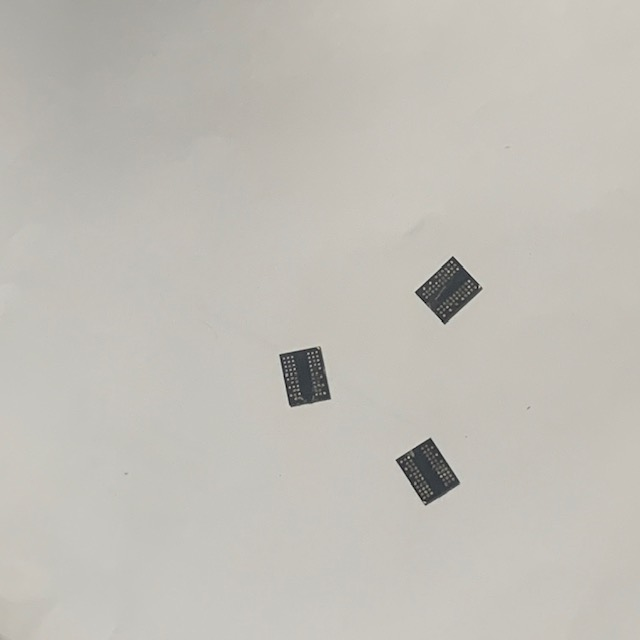IC: (413, 253, 485, 327), (392, 434, 463, 508), (273, 343, 335, 409)
